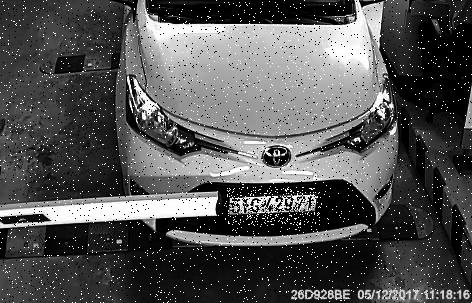License-plate: (227, 189, 323, 227)
